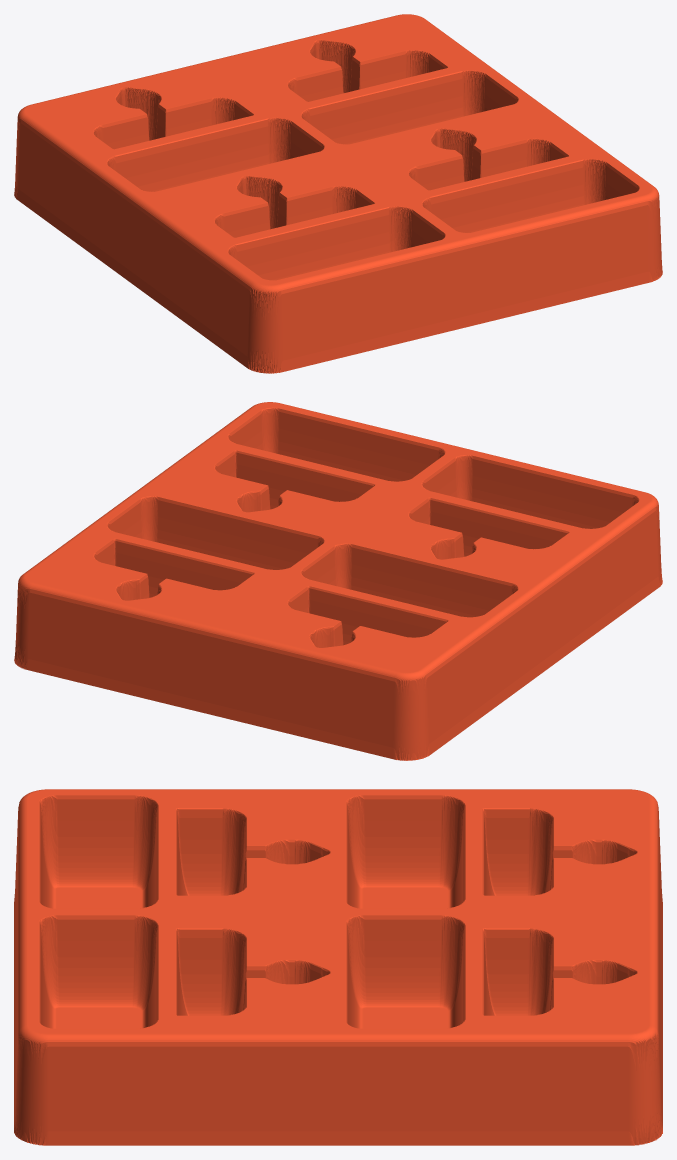
Rendered from mold.glb.
3 views of the same model, one above another, from view 1: azimuth 30°, elevation 25°; view 2: azimuth 150°, elevation 25°; view 3: azimuth 270°, elevation 25° (orthographic). The views are drawn at different scales.
Parts seen in each view (by area): view 1: geometry_0; view 2: geometry_0; view 3: geometry_0.
Part boxes in pixels (x1=…): geometry_0: x1=14, y1=14, x2=662, y2=373; geometry_0: x1=14, y1=402, x2=662, y2=760; geometry_0: x1=14, y1=789, x2=662, y2=1145.
Size of the model in its own units: 0.1602 by 0.031 by 0.1721.
